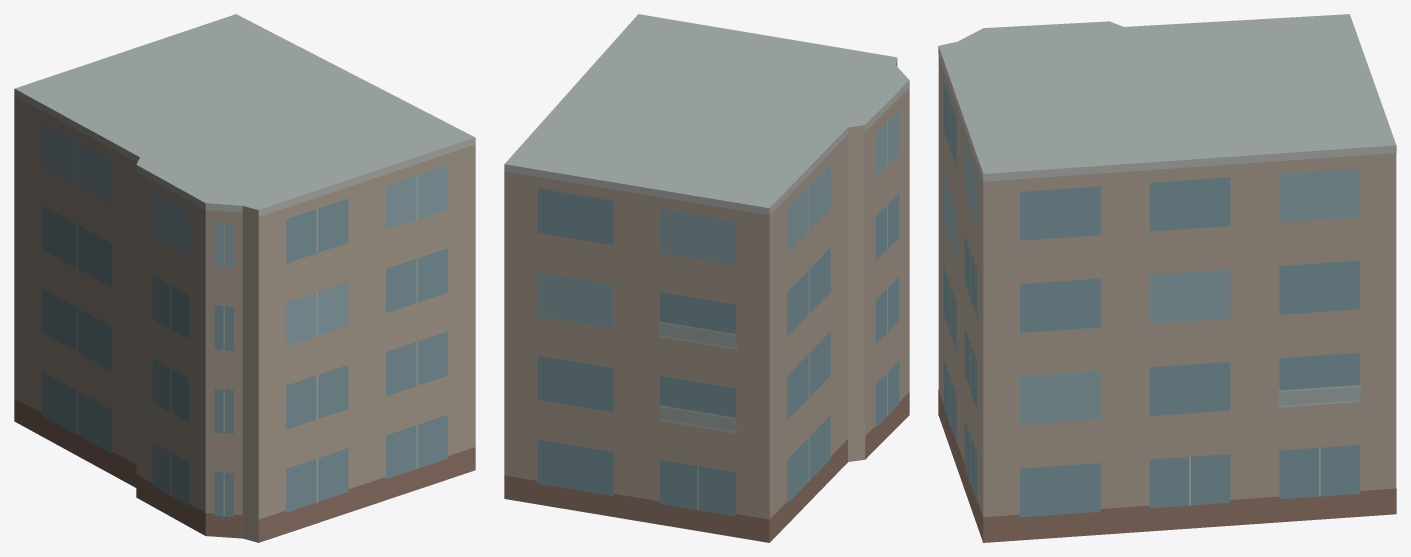
File: survey-upis-32925000.glb
The picture shows the model from 3 angles, left to right: view 1: azimuth 30°, elevation 25°; view 2: azimuth 150°, elevation 25°; view 3: azimuth 270°, elevation 25°; orthographic projection. The views are drawn at different scales.
Parts seen in each view (by area): view 1: survey-upis-32925000.tmp; view 2: survey-upis-32925000.tmp; view 3: survey-upis-32925000.tmp.
Boxes of the visible parts, box(x1,y1,x2,y2) form: survey-upis-32925000.tmp: box(14, 14, 475, 542); survey-upis-32925000.tmp: box(504, 14, 909, 542); survey-upis-32925000.tmp: box(938, 14, 1396, 542).
Size of the model in its own units: 10.89 by 11.7 by 13.18.
